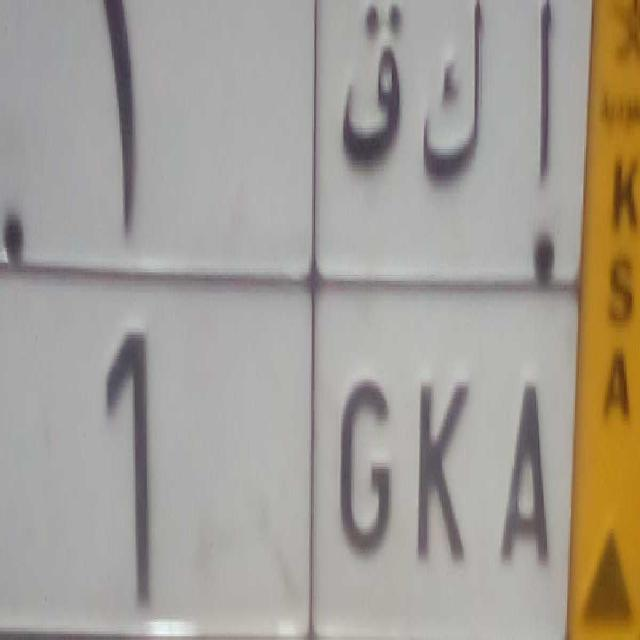license_plate: (0, 258, 572, 640)
